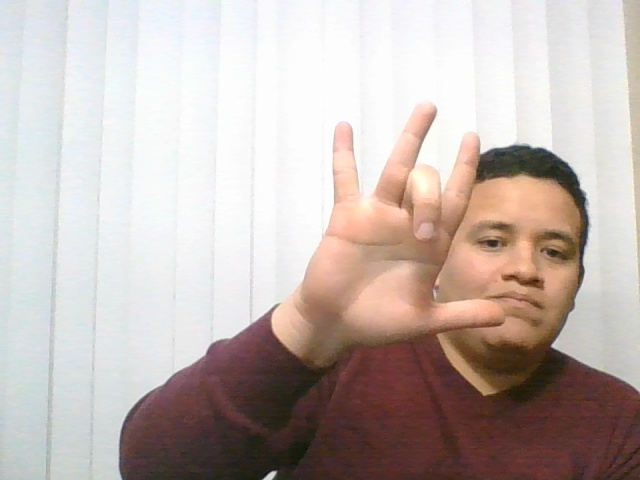Eight: (233, 89, 548, 356)
